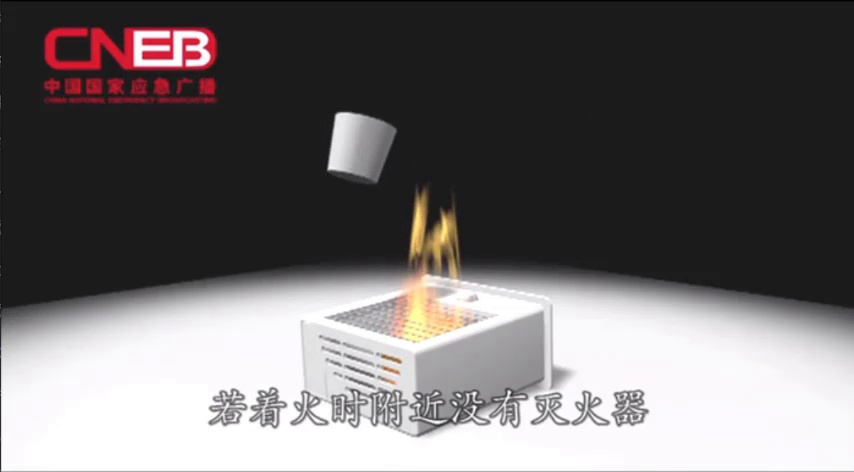fire: (385, 179, 479, 342)
